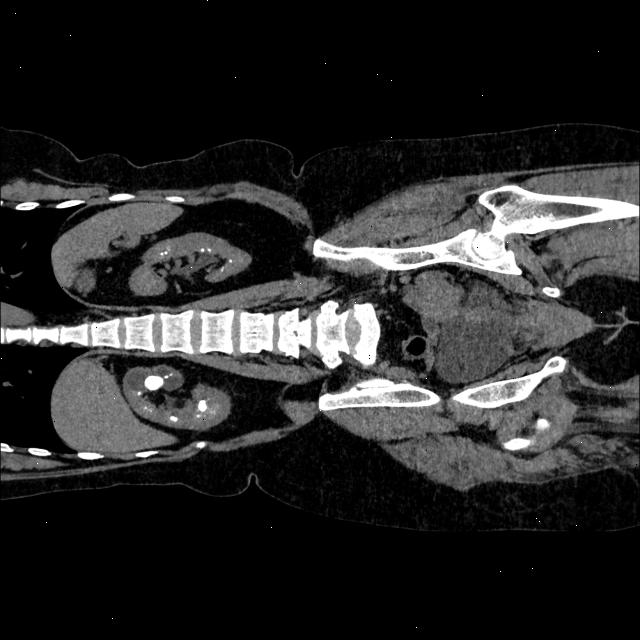kidneystone: (144, 375, 163, 390), (198, 399, 207, 411)
